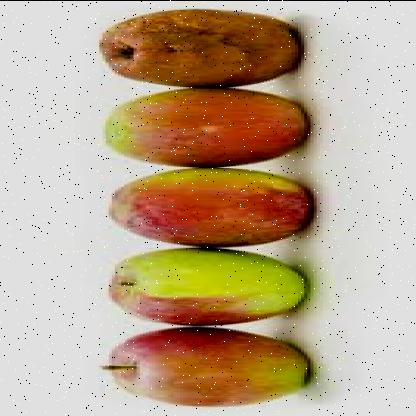apple: (106, 170, 314, 244), (99, 331, 301, 407), (106, 88, 308, 162), (115, 252, 320, 321)
damaged_apple: (102, 8, 304, 84)
